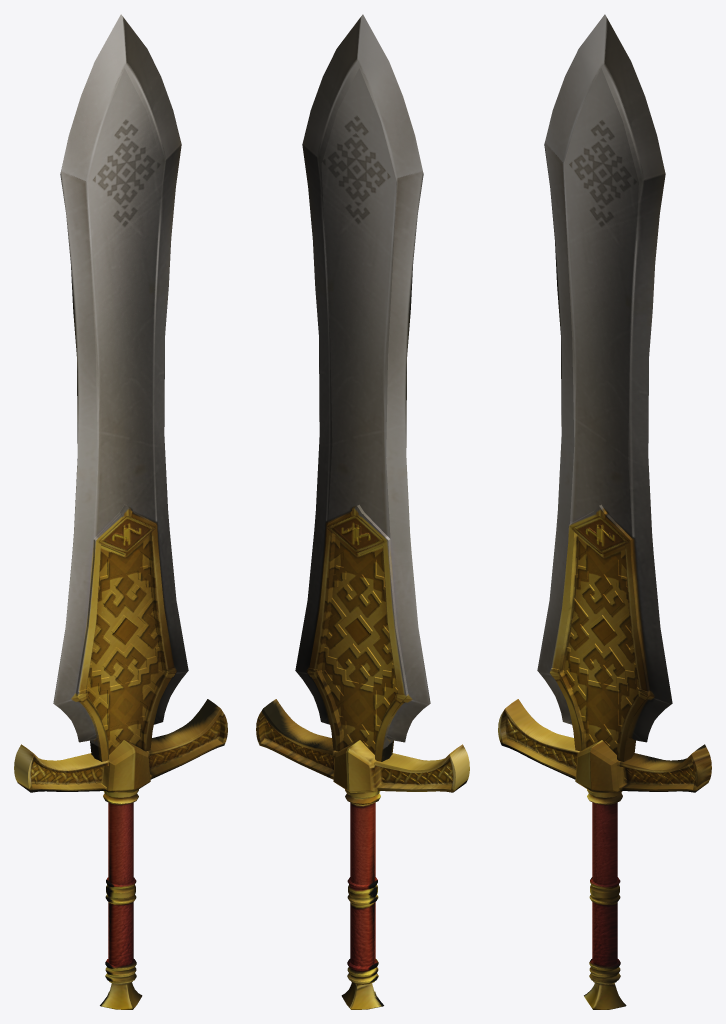
Rendered from sm_sword_74.gltf.
3 views of the same model, side by side, from view 1: azimuth 30°, elevation 25°; view 2: azimuth 150°, elevation 25°; view 3: azimuth 330°, elevation 25° (orthographic).
Parts seen in each view (by area): view 1: sm_sword_74; view 2: sm_sword_74; view 3: sm_sword_74.
Part boxes in pixels (x1,y1,x2,y2): sm_sword_74: [14, 14, 227, 1009]; sm_sword_74: [256, 14, 469, 1009]; sm_sword_74: [498, 14, 711, 1009].
Size of the model in its own units: 0.318 by 1.51 by 0.0816.
1 material, 1 textured.
